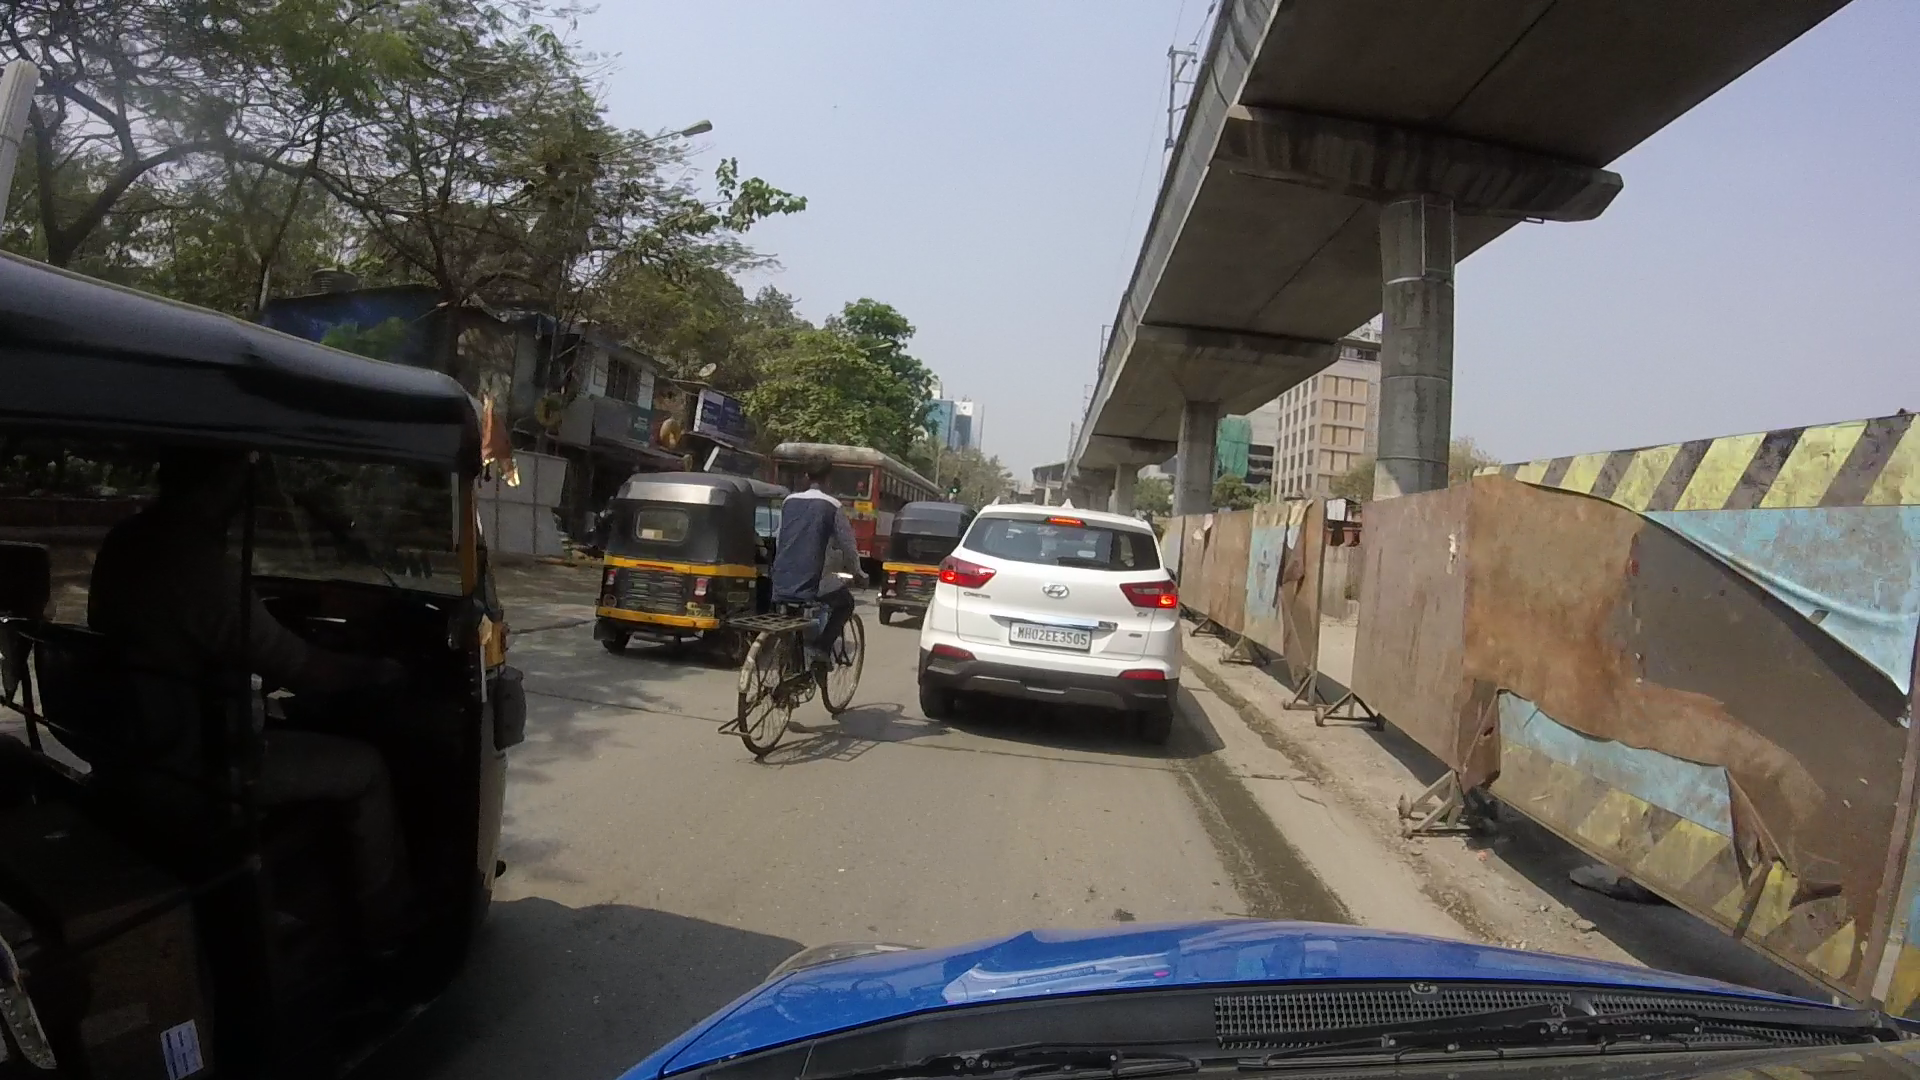bus: (793, 442, 911, 563)
car: (928, 501, 1182, 731)
rickshaw: (16, 262, 502, 1025), (596, 473, 781, 645), (872, 498, 984, 633)
